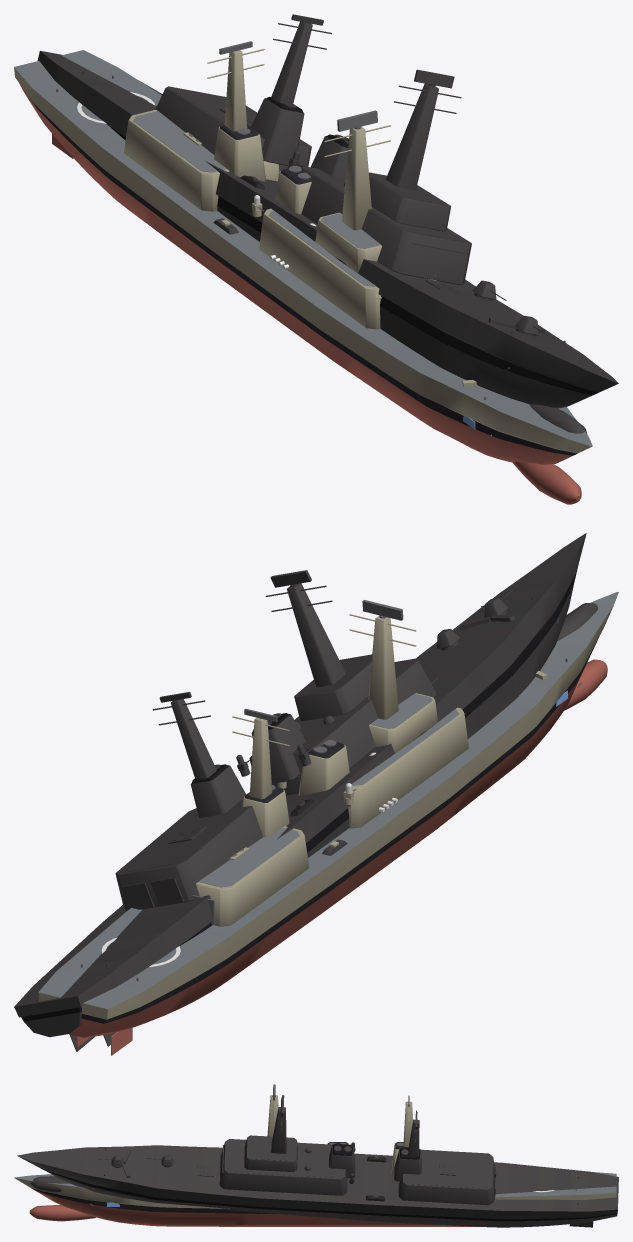
File: destroyer__udaloy_class.glb
3 renders of one model, top to bottom at view 1: azimuth 30°, elevation 25°; view 2: azimuth 150°, elevation 25°; view 3: azimuth 270°, elevation 25°, orthographic. The views are drawn at different scales.
Parts seen in each view (by area): view 1: Hull_Mesh, Wreck; view 2: Hull_Mesh, Wreck; view 3: Wreck, Hull_Mesh.
Boxes of the visible parts, x1=… form: Hull_Mesh: x1=14, y1=41, x2=592, y2=504; Wreck: x1=37, y1=14, x2=618, y2=433; Hull_Mesh: x1=38, y1=592, x2=618, y2=1055; Wreck: x1=14, y1=533, x2=597, y2=1051; Wreck: x1=17, y1=1095, x2=618, y2=1227; Hull_Mesh: x1=14, y1=1095, x2=616, y2=1226.
Size of what is drawn, in the model's own units: 29.55 by 45.44 by 171.
